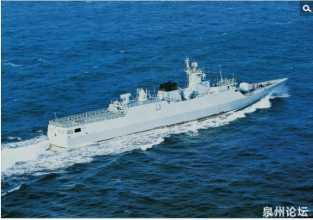warship: (47, 65, 291, 149)
